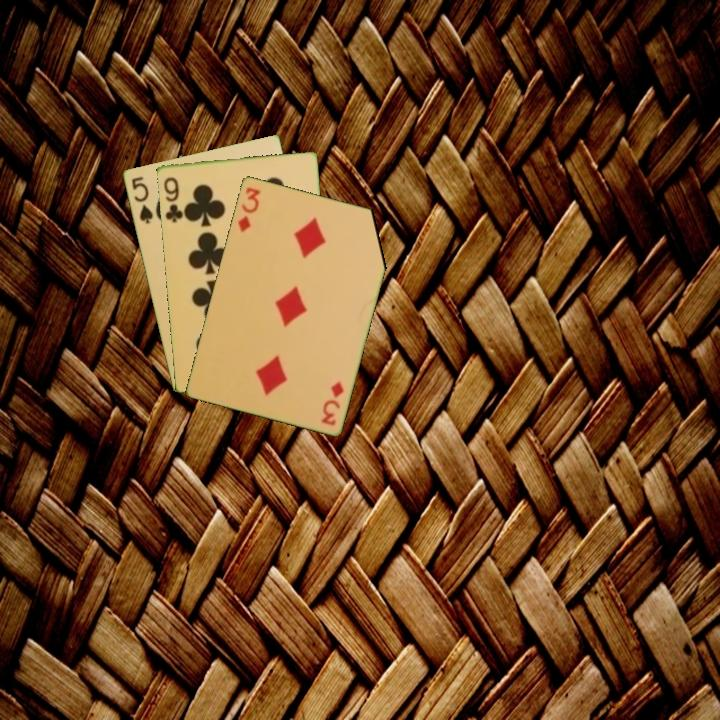3d: (234, 183, 263, 235), (317, 377, 346, 428)
5s: (128, 173, 156, 226)
9c: (160, 173, 185, 225)
